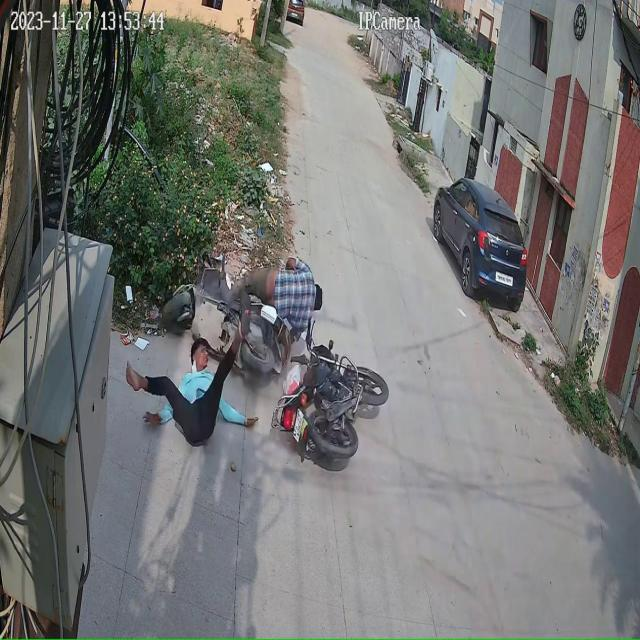accident: (121, 240, 391, 486)
